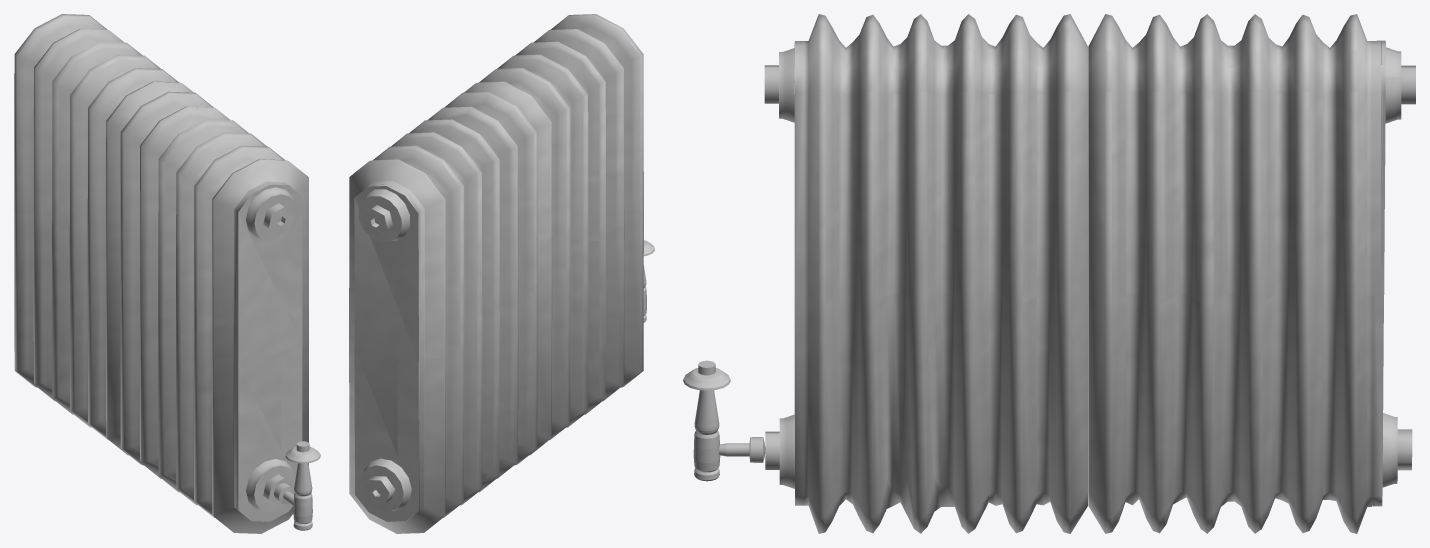
File: radiator.FBX
The picture shows the model from 3 angles, left to right: view 1: azimuth 30°, elevation 25°; view 2: azimuth 150°, elevation 25°; view 3: azimuth 270°, elevation 25°; orthographic projection. The views are drawn at different scales.
Visible parts, largest first — view 1: radiator; view 2: radiator; view 3: radiator.
Boxes of the visible parts, x1,y1,x2,y2 form: radiator: (14, 14, 320, 533); radiator: (349, 14, 654, 533); radiator: (683, 14, 1415, 533).
Bounding box in the file's own units: 30.51 × 114 × 151.
1 material, 1 textured.
